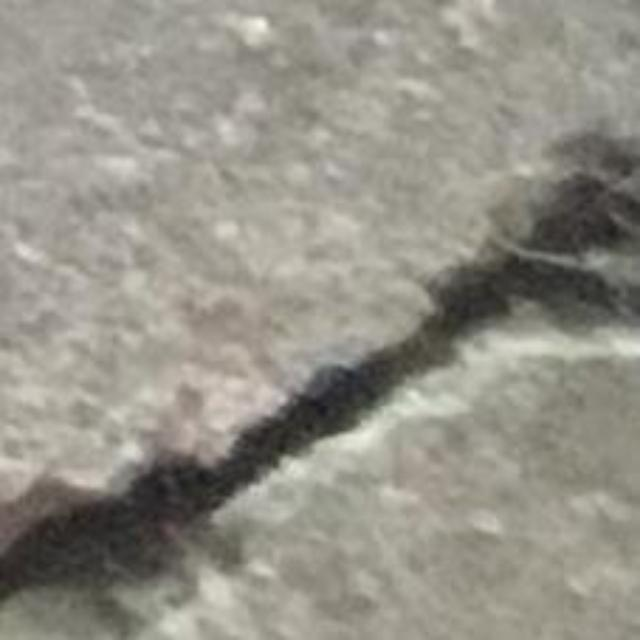crack: (0, 136, 639, 631)
